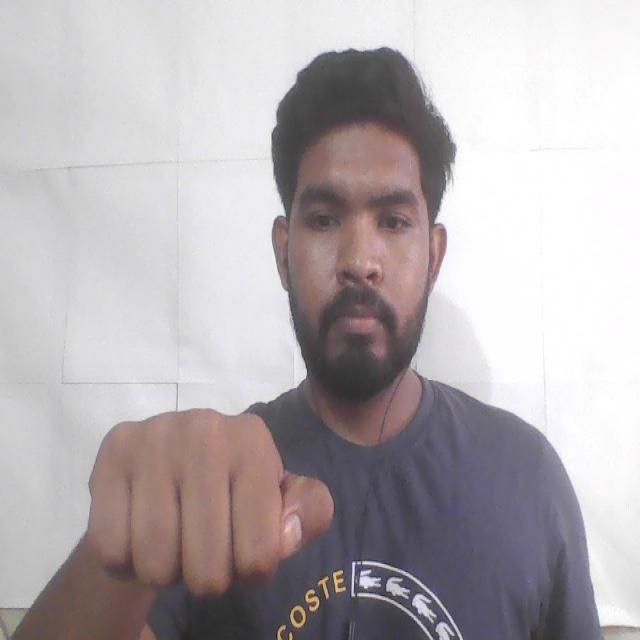Yes: (68, 387, 362, 640)
